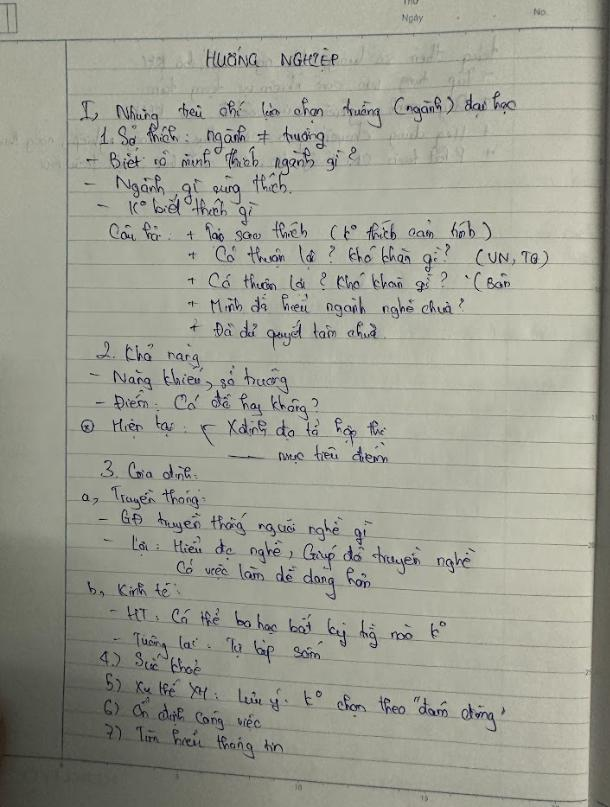text: (104, 669, 508, 736), (76, 88, 518, 132), (102, 530, 478, 578), (107, 602, 448, 652), (185, 242, 551, 275), (97, 505, 375, 547), (106, 218, 494, 245), (175, 555, 375, 604), (186, 268, 513, 296), (108, 627, 325, 669), (85, 145, 358, 178), (97, 121, 328, 158), (102, 720, 288, 765), (95, 388, 322, 422), (186, 295, 467, 322), (84, 170, 292, 206), (85, 364, 292, 399), (102, 694, 265, 735), (188, 319, 379, 352), (94, 192, 258, 228), (225, 414, 389, 448), (78, 482, 208, 513), (202, 45, 339, 74), (98, 646, 203, 679), (275, 439, 390, 468), (94, 340, 203, 370), (98, 456, 200, 485), (81, 412, 175, 438), (85, 578, 175, 602), (400, 12, 426, 25), (532, 7, 548, 18)
